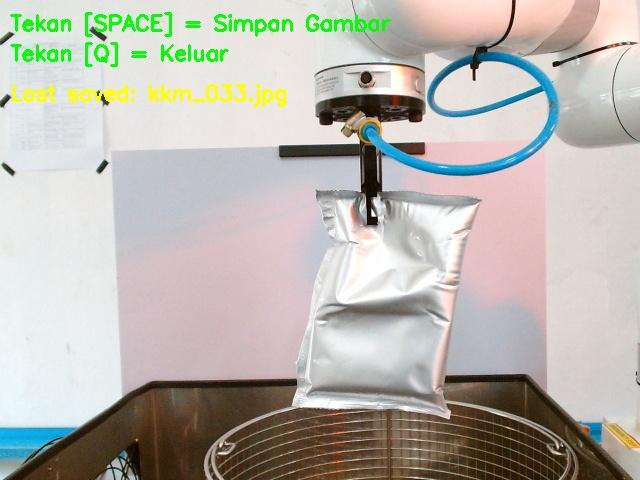retort-pouch: (288, 190, 479, 417)
